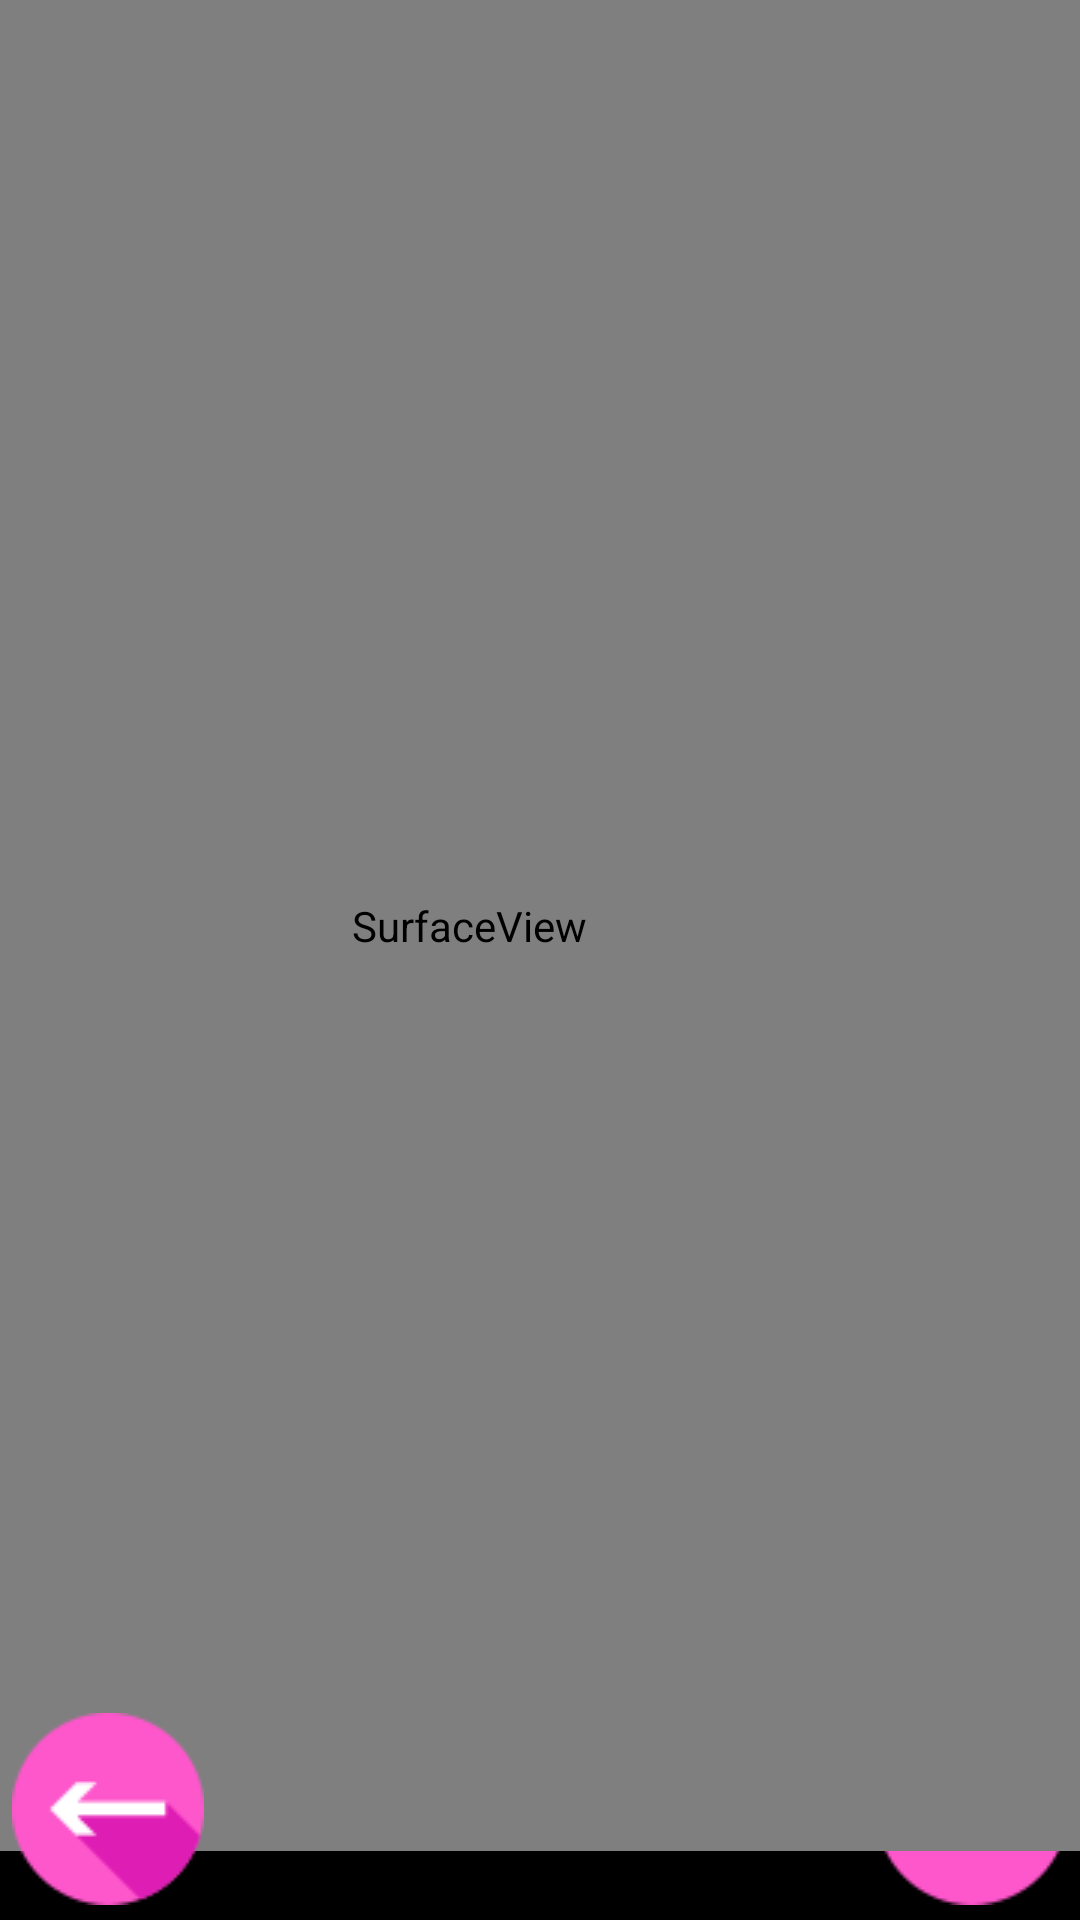

Icon bounding boxes for this 1080×1920 phone screenshot, format (x1,y1,x2,y2):
flecheg: (0,1713,216,1920)
